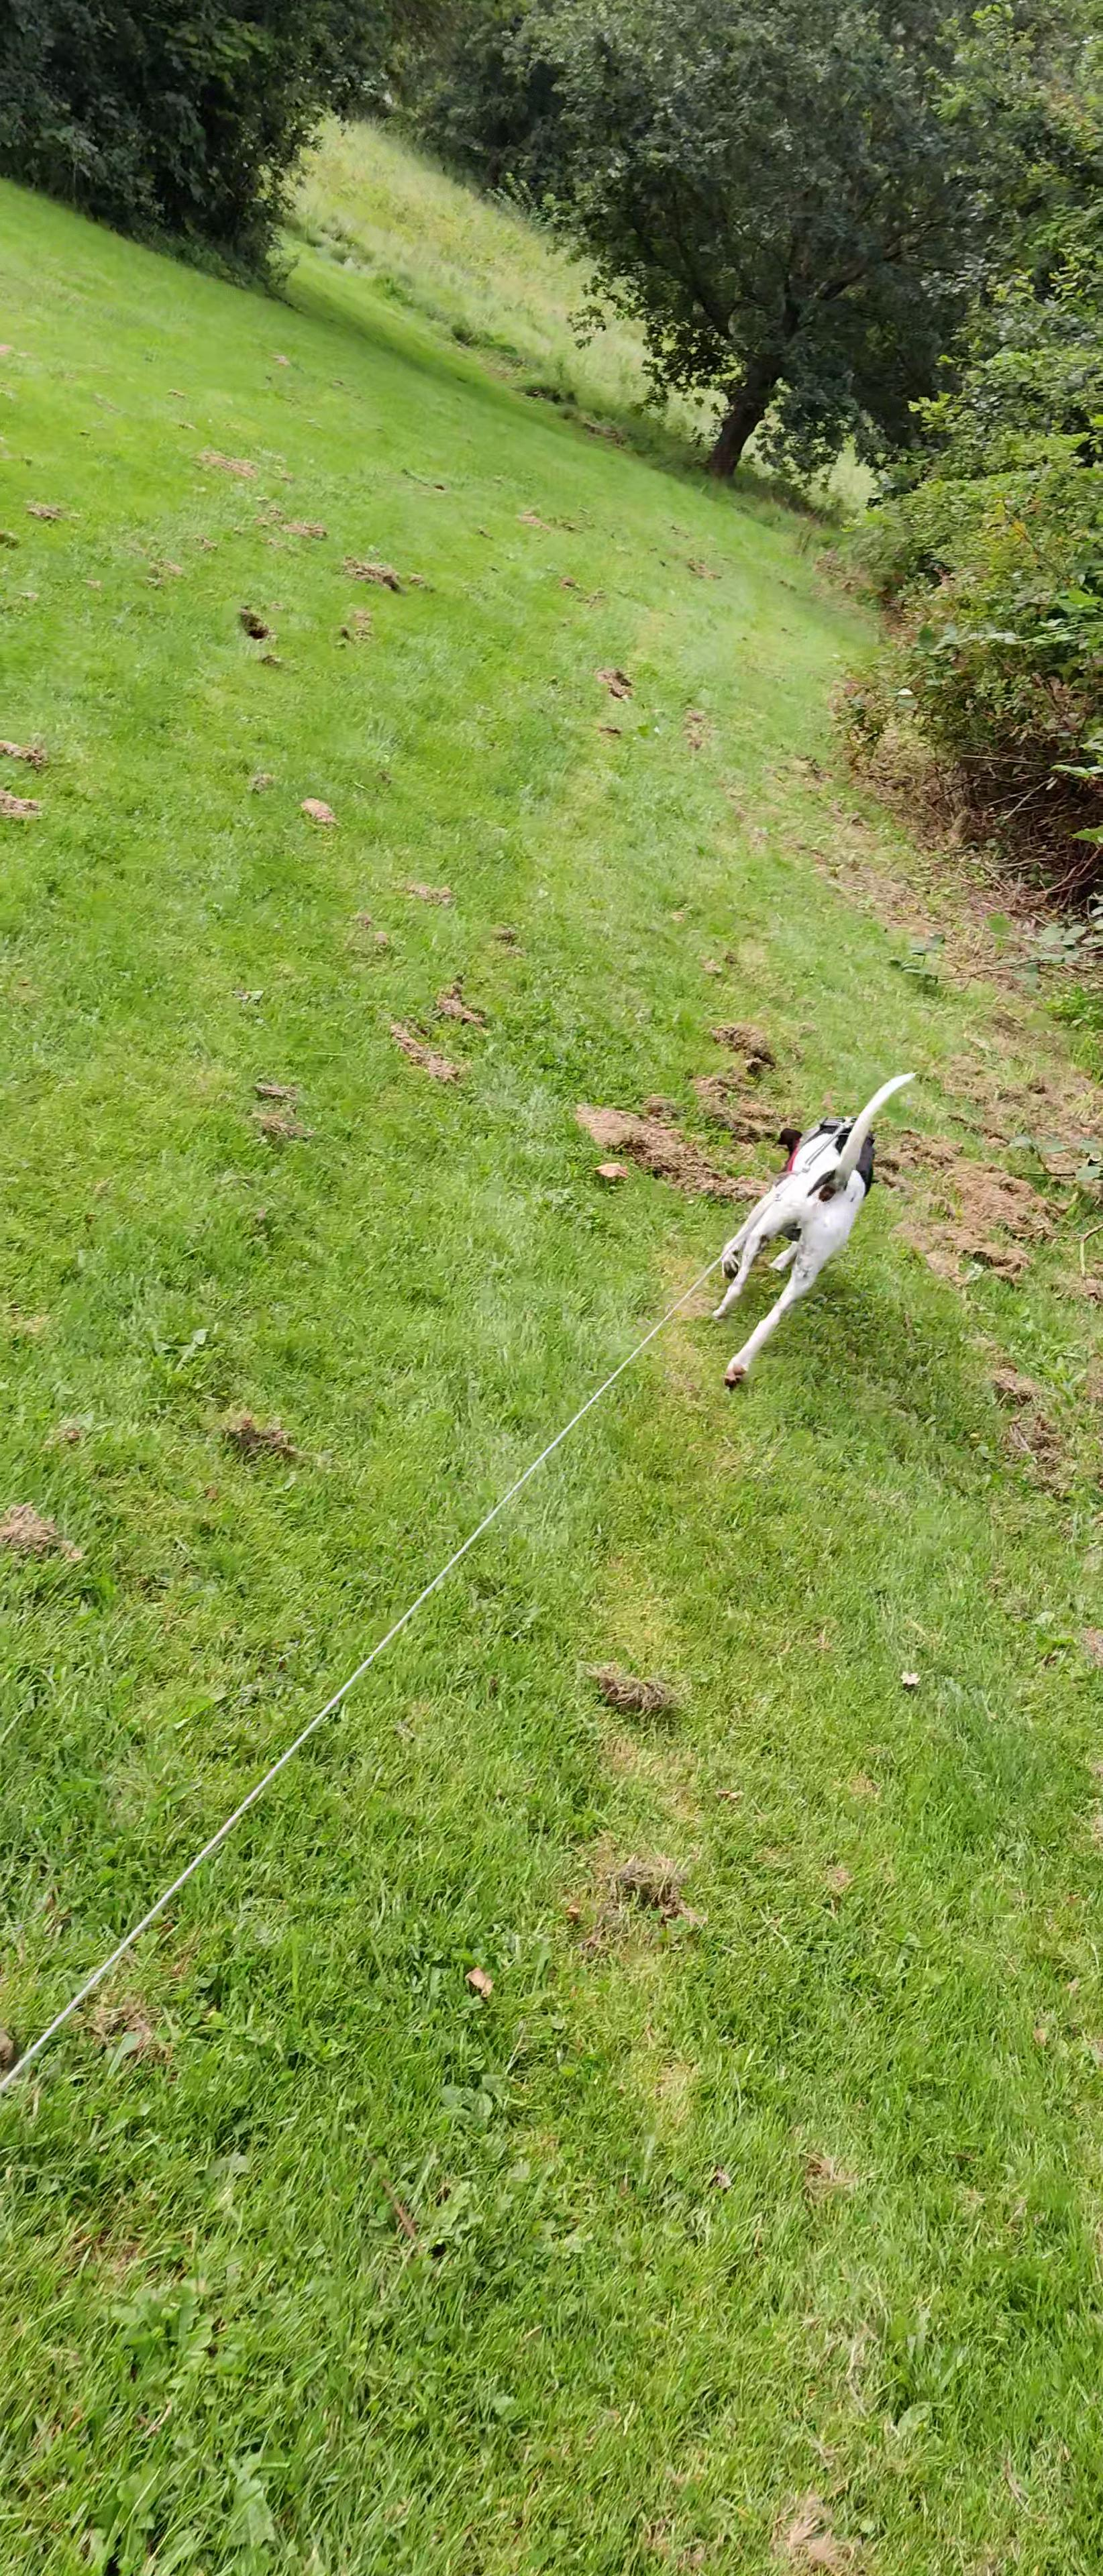Dog: (687, 1058, 932, 1396)
